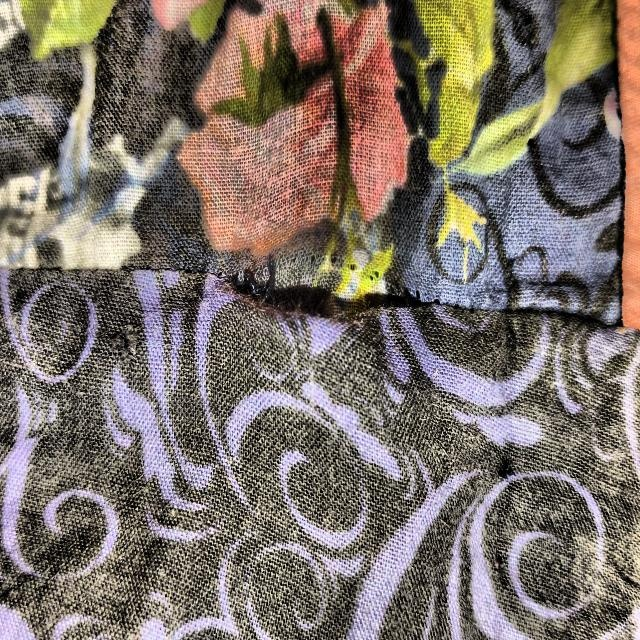seam: (174, 188, 483, 386)
